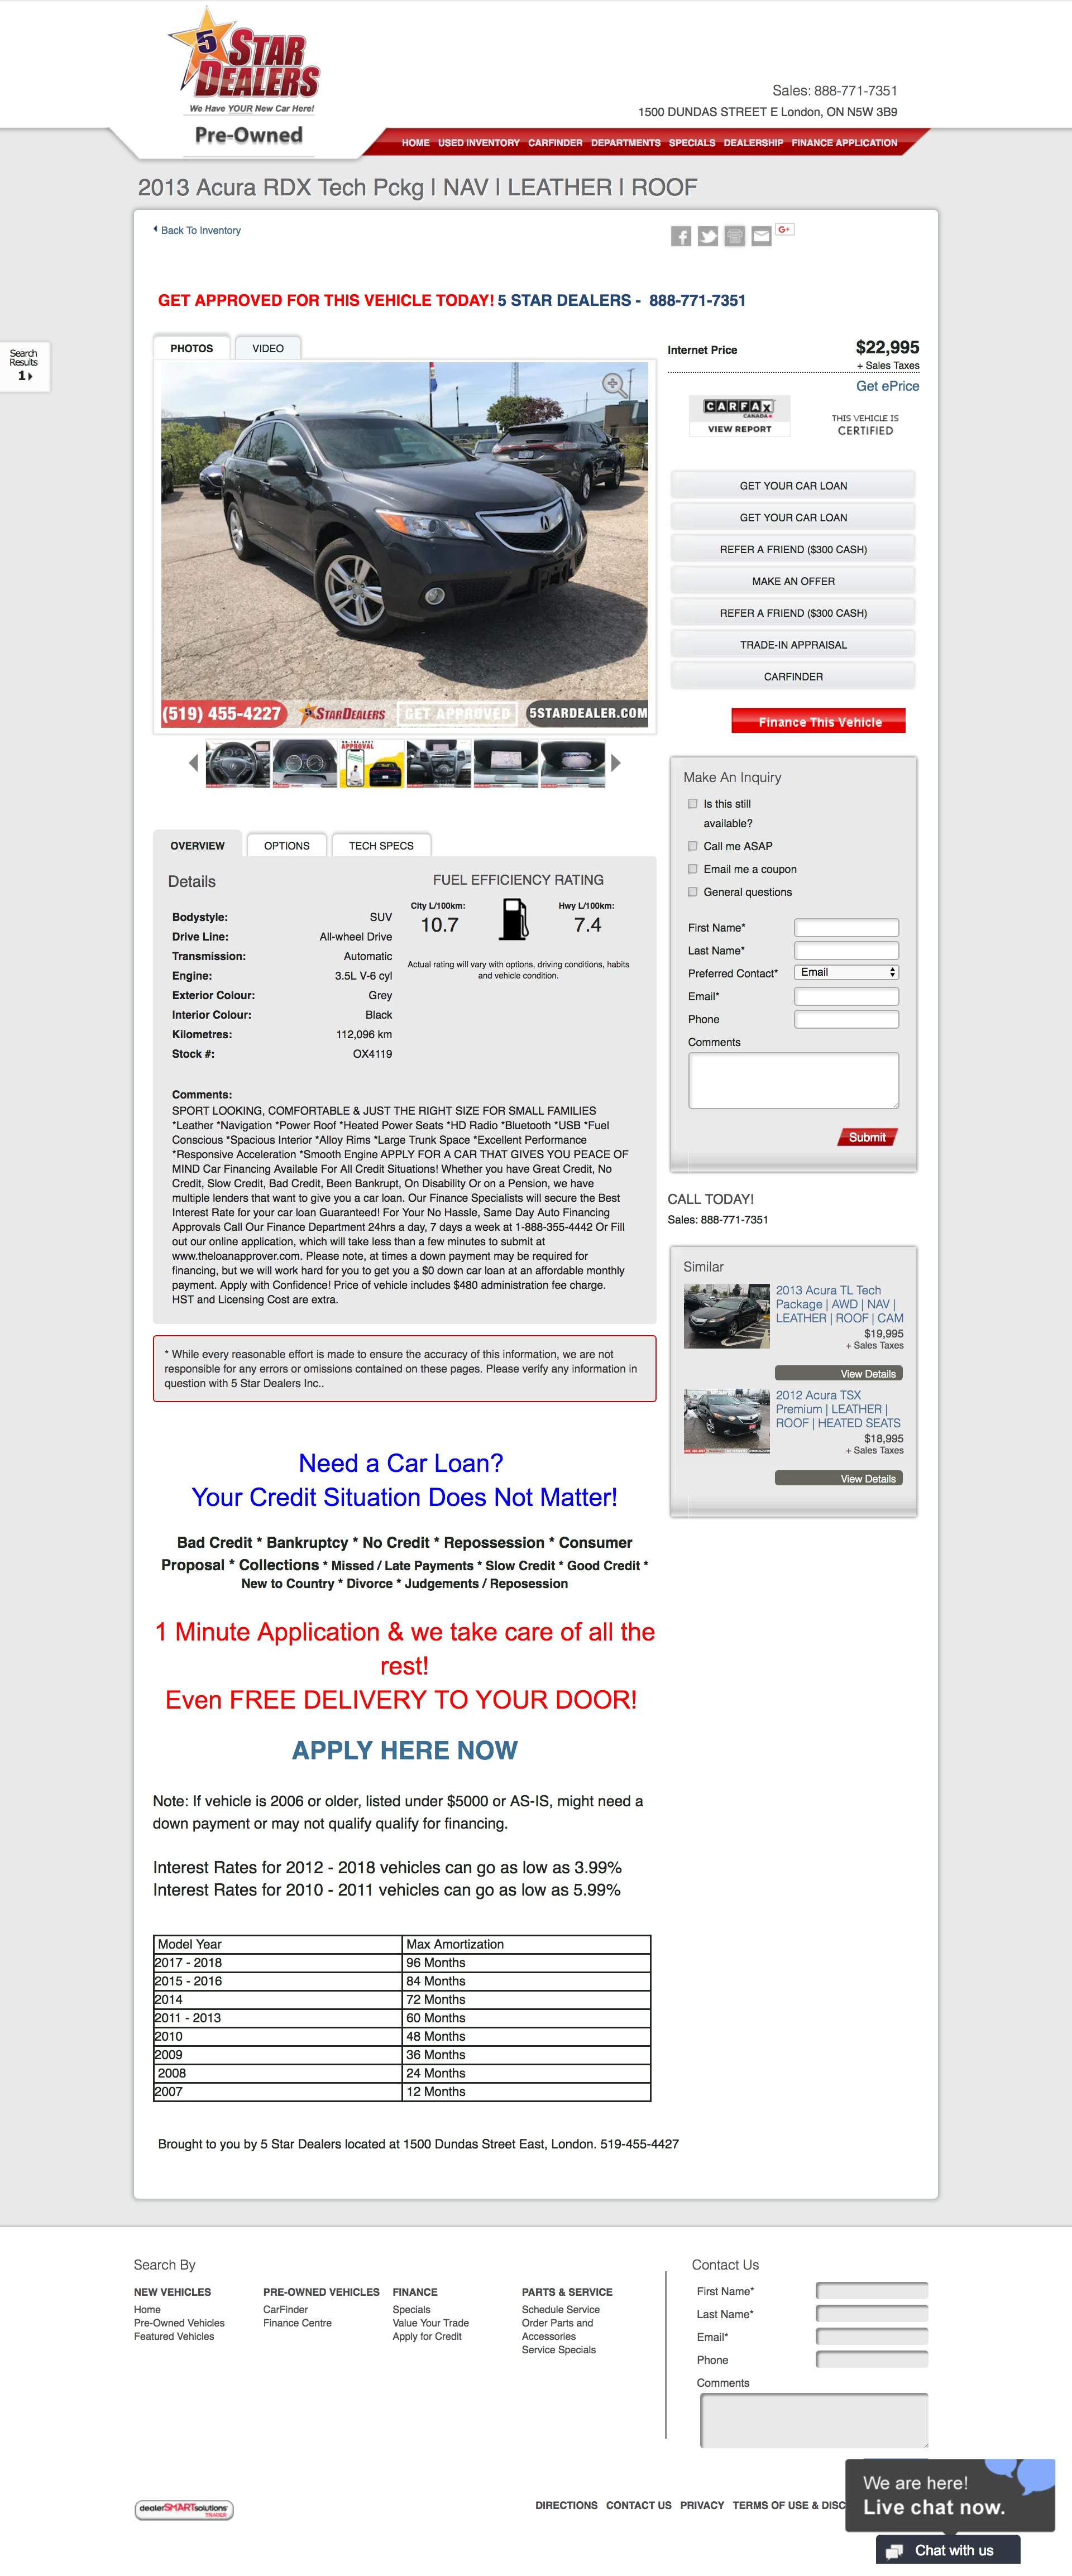car: (610, 752, 623, 774)
